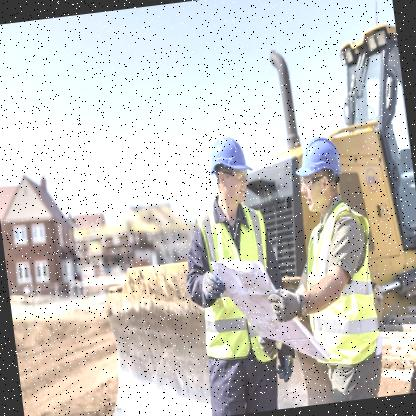capacete: (292, 132, 347, 212), (206, 132, 260, 208)
colete_refletivo: (176, 198, 293, 360), (287, 199, 388, 373)
